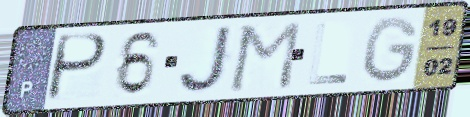6: (111, 30, 161, 99)
G: (361, 14, 422, 86)
J: (176, 23, 238, 96)
L: (306, 21, 351, 88)
M: (225, 18, 304, 94)
P: (43, 31, 110, 104)
